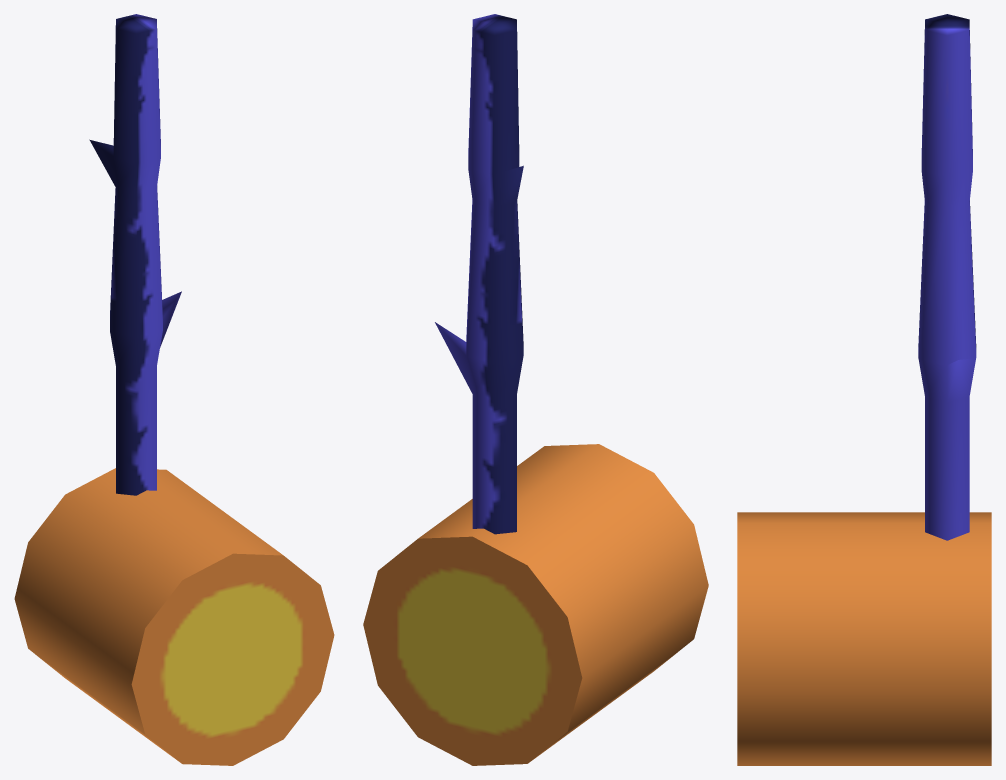
The model's file is Top13.fbx.
3 views of the same model, side by side, from view 1: azimuth 30°, elevation 25°; view 2: azimuth 150°, elevation 25°; view 3: azimuth 270°, elevation 25° (orthographic). The views are drawn at different scales.
Visible parts, largest first — view 1: Top13; view 2: Top13; view 3: Top13.
Boxes of the visible parts, box(x1,y1,x2,y2) form: Top13: box(14, 14, 334, 765); Top13: box(363, 14, 708, 765); Top13: box(737, 14, 991, 765).
Bounding box in the file's own units: 0.9007 × 2.85 × 0.9007.
1 material, 1 textured.
